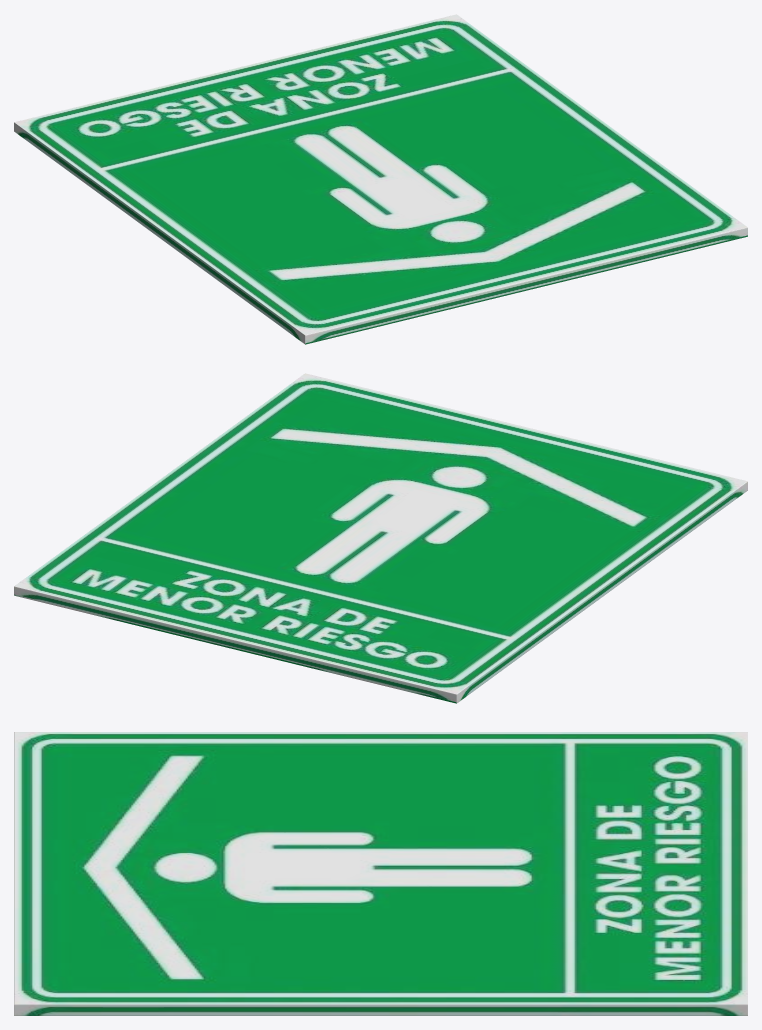
The model's file is modelo_cartel_zona_riesgo.obj.
3 views of the same model, one above another, from view 1: azimuth 30°, elevation 25°; view 2: azimuth 150°, elevation 25°; view 3: azimuth 270°, elevation 25° (orthographic). The views are drawn at different scales.
Visible parts, largest first — view 1: painting_Material.012; view 2: painting_Material.012; view 3: painting_Material.012.
Boxes of the visible parts, x1,y1,x2,y2 form: painting_Material.012: (14,14,747,344); painting_Material.012: (14,373,747,703); painting_Material.012: (14,732,747,1015).
Bounding box in the file's own units: 0.1673 × 0.00339 × 0.1905.
